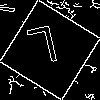L: (25, 25, 62, 76)
